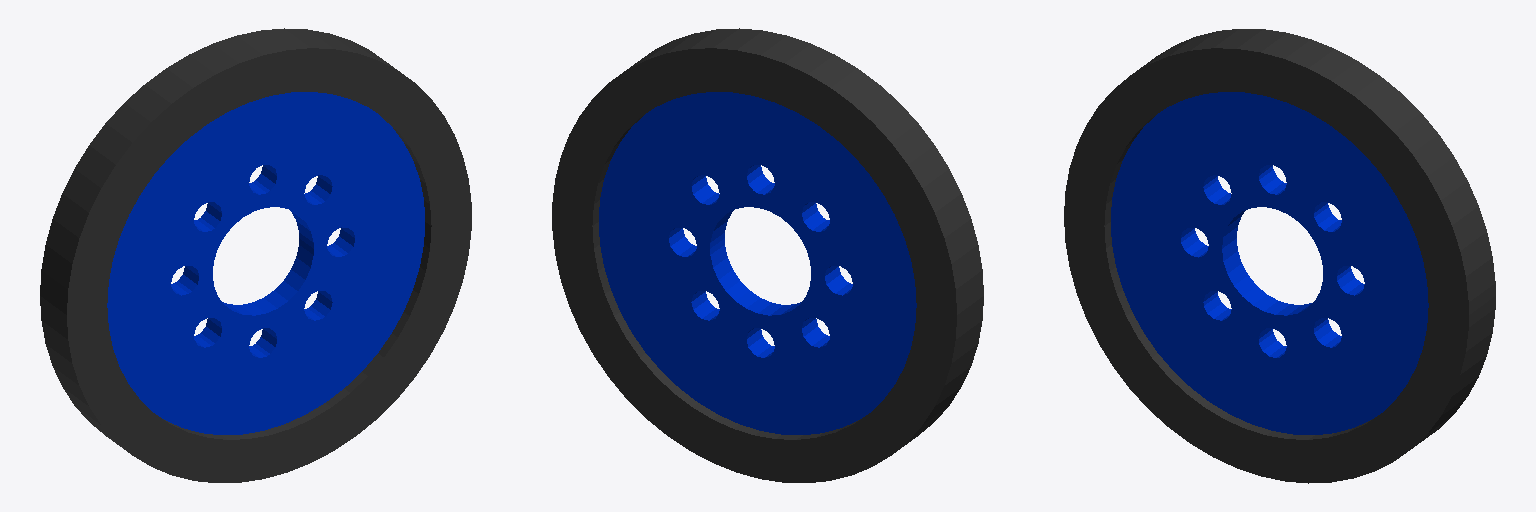
Rendered from ROB-12425.obj.
3 views of the same model, side by side, from view 1: azimuth 30°, elevation 25°; view 2: azimuth 150°, elevation 25°; view 3: azimuth 330°, elevation 25° (orthographic).
Visible parts, largest first — view 1: mesh 2 Boss-Extrude1, mesh 1 RO; view 2: mesh 2 Boss-Extrude1, mesh 1 RO; view 3: mesh 2 Boss-Extrude1, mesh 1 RO.
Boxes of the visible parts, box(x1,y1,x2,y2) form: mesh 2 Boss-Extrude1: box(107, 92, 424, 434); mesh 1 RO: box(40, 28, 471, 482); mesh 2 Boss-Extrude1: box(599, 92, 916, 434); mesh 1 RO: box(552, 28, 983, 482); mesh 2 Boss-Extrude1: box(1111, 92, 1428, 434); mesh 1 RO: box(1064, 29, 1495, 483).
Bounding box in the file's own units: 0.0508 × 0.0508 × 0.0058.